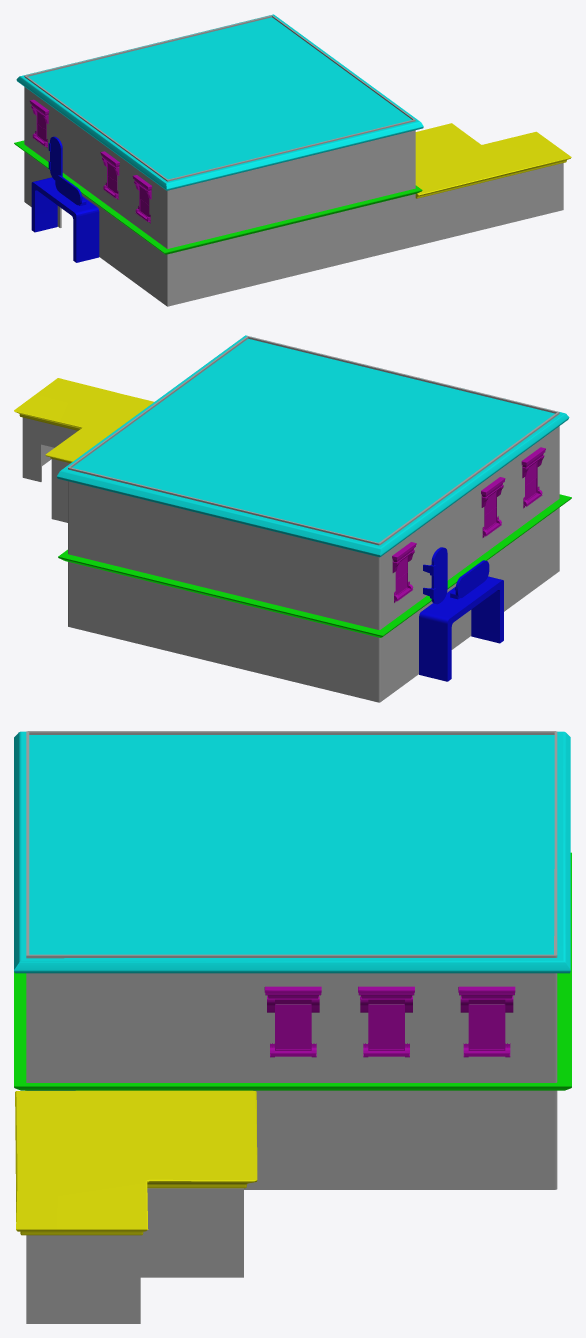
The model's file is First_Bar_Shell 1_fix.fbx.
The picture shows the model from 3 angles, top to bottom: view 1: azimuth 30°, elevation 25°; view 2: azimuth 150°, elevation 25°; view 3: azimuth 270°, elevation 25°; orthographic projection. The views are drawn at different scales.
Visible parts, largest first — view 1: first_bar_shell, first_bar_roof, First_bar_Office_Roof, first_bar_Front_signs, First_Bar_Lower_crowning, window13, window14, window12; view 2: first_bar_shell, first_bar_roof, first_bar_Front_signs, First_bar_Office_Roof, First_Bar_Lower_crowning, window13, window14, window12; view 3: first_bar_roof, first_bar_shell, First_bar_Office_Roof, First_Bar_Lower_crowning, window15, window17, window16.
Boxes of the visible parts, x1,y1,x2,y2 form: first_bar_shell: (24,15,563,306); first_bar_roof: (16,14,423,190); First_bar_Office_Roof: (415,123,571,198); first_bar_Front_signs: (31,136,99,262); First_Bar_Lower_crowning: (14,140,422,254); window13: (100,151,119,199); window14: (132,175,152,223); window12: (29,99,49,147); first_bar_shell: (22,336,559,702); first_bar_roof: (57,335,569,557); first_bar_Front_signs: (419,547,503,681); First_bar_Office_Roof: (14,378,153,463); First_Bar_Lower_crowning: (58,494,571,637); window13: (481,477,505,537); window14: (521,447,545,508); window12: (392,542,416,602); first_bar_roof: (14,731,570,973); first_bar_shell: (26,731,557,1323); First_bar_Office_Roof: (15,1090,257,1235); First_Bar_Lower_crowning: (14,852,571,1090); window15: (458,986,515,1057); window17: (264,986,321,1057); window16: (358,986,414,1057).
Size of the model in its own units: 8604 by 2445 by 5276.
